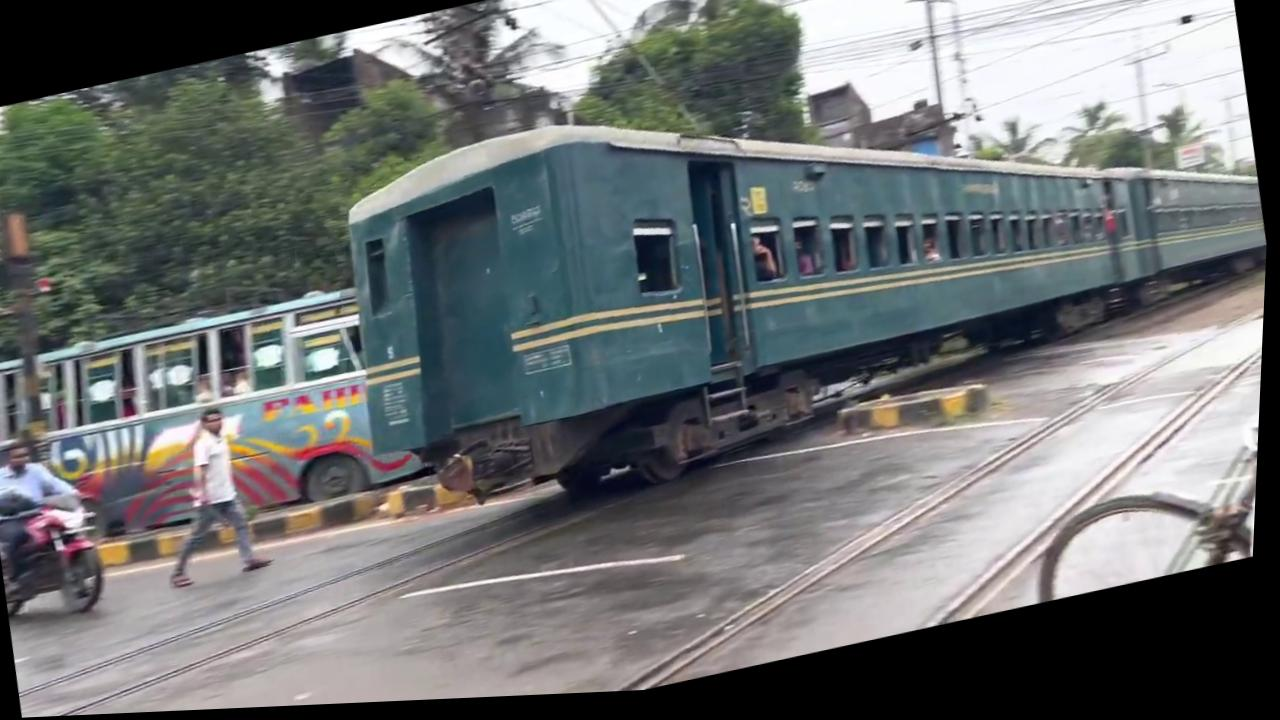Curb: (0, 475, 120, 629)
Fence: (146, 399, 285, 592), (0, 428, 102, 590), (750, 237, 783, 289), (922, 243, 945, 272)
Motorcycle: (570, 309, 1268, 699)
Potted-plant: (320, 0, 1279, 551)
